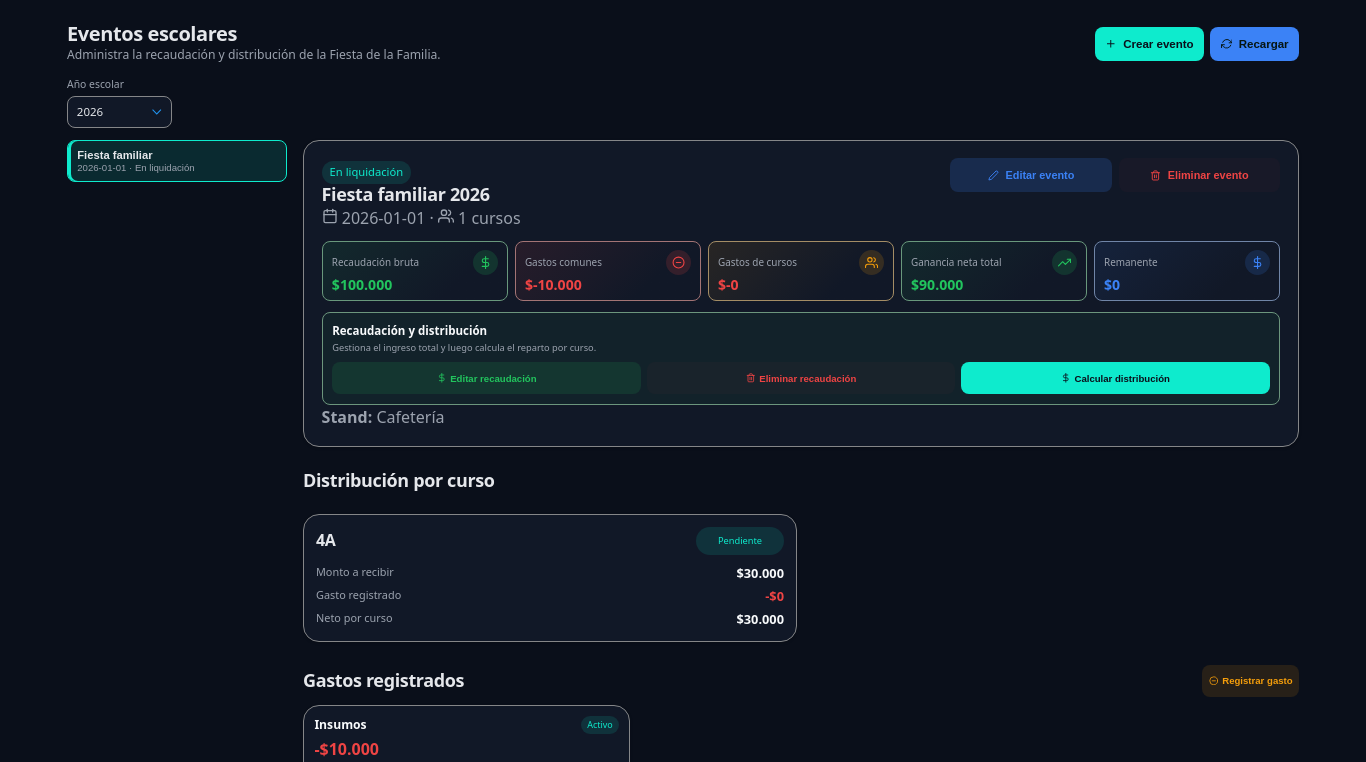
school events connected to HTTP › adds a donated course expense with its category and returns updated data
Click the button "Registrar gasto". click: (1251, 680)
box: [1202, 664, 1299, 696]
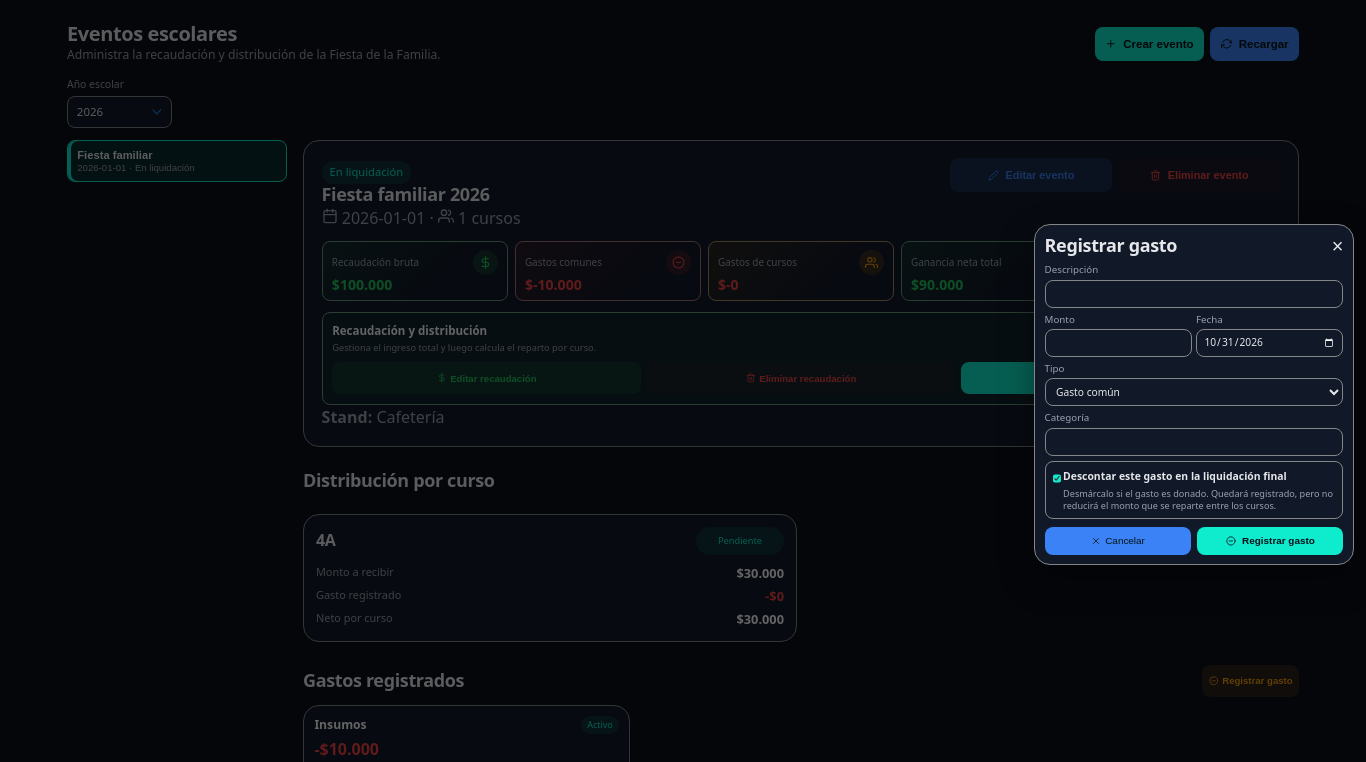
Type "Donación" into the field labelled "Descripción". click: (1194, 294)
box: [1045, 280, 1343, 308]
Type "5000" into the number field labelled "Monto". click: (1118, 343)
box: [1045, 329, 1192, 357]
Select "Gasto de curso" in the dropdown labelled "Tipo". click: (1194, 392)
box: [1045, 378, 1343, 406]
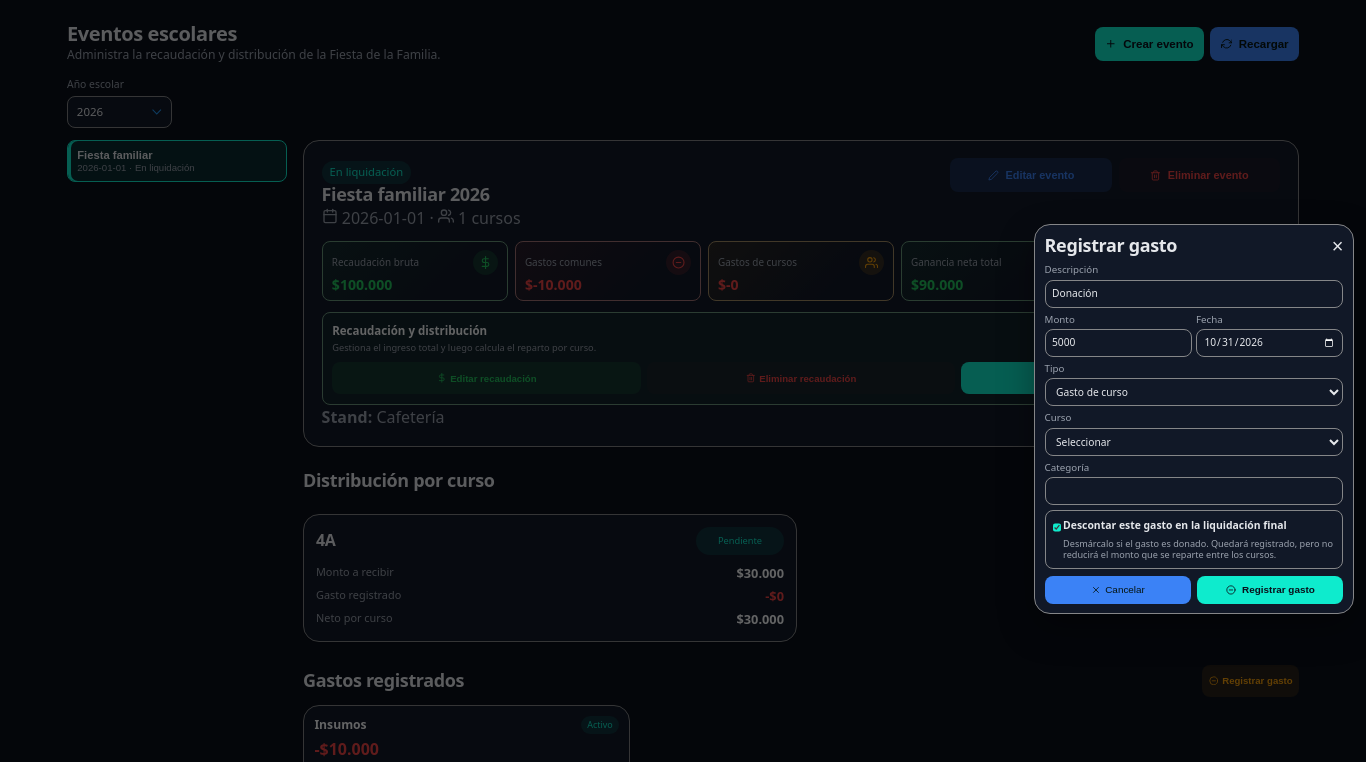
Select "4A" in the dropdown labelled "Curso". click: (1194, 442)
box: [1045, 428, 1343, 456]
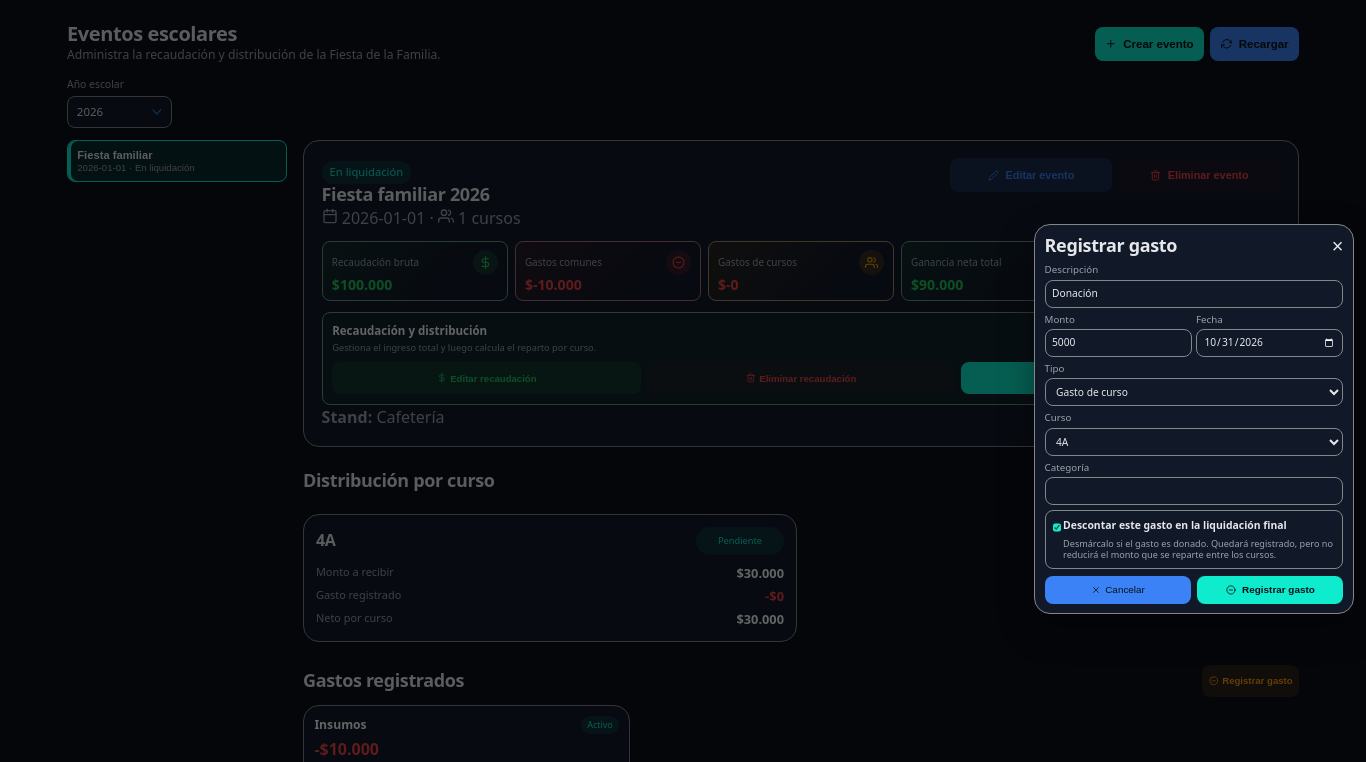
Type "Alimentos" into the field labelled "Categoría". click: (1194, 491)
box: [1045, 477, 1343, 505]
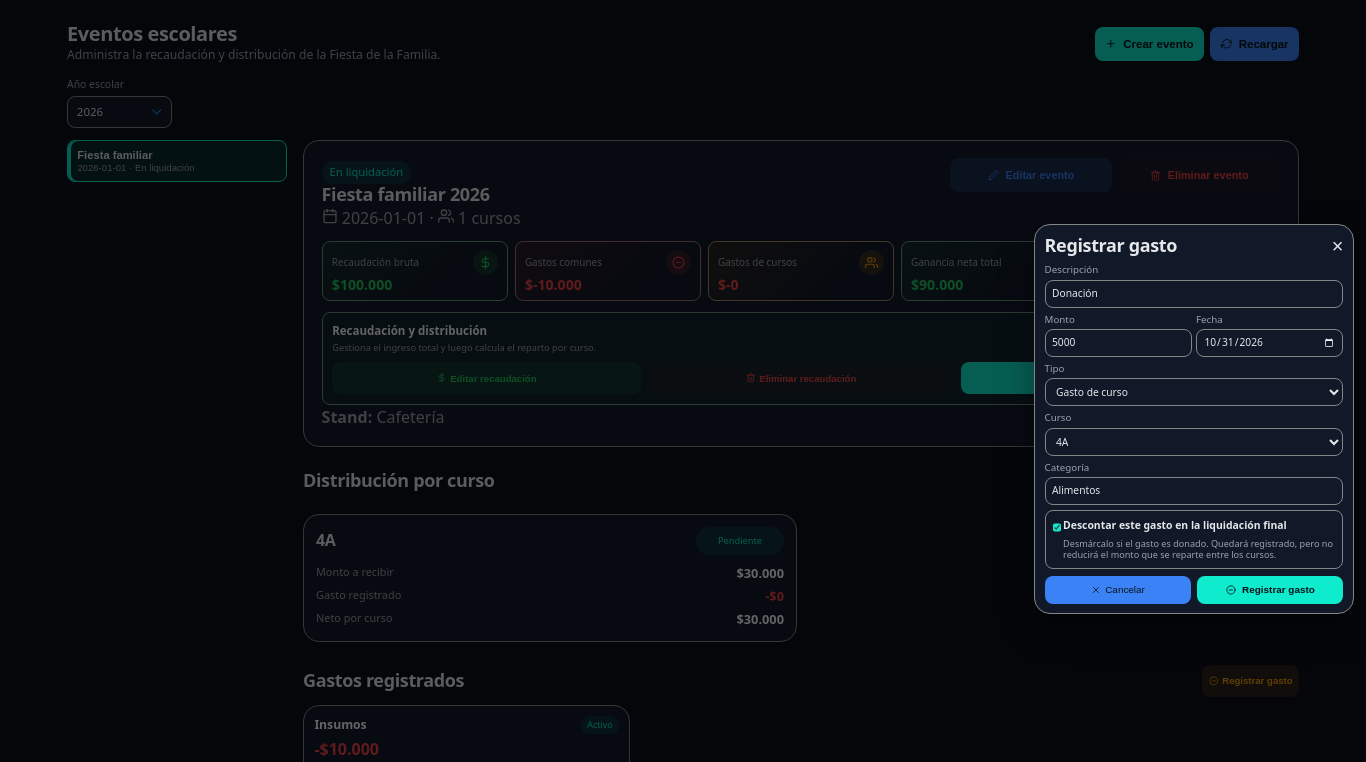
Click the checkbox. click: (1057, 528)
box: [1053, 520, 1061, 536]
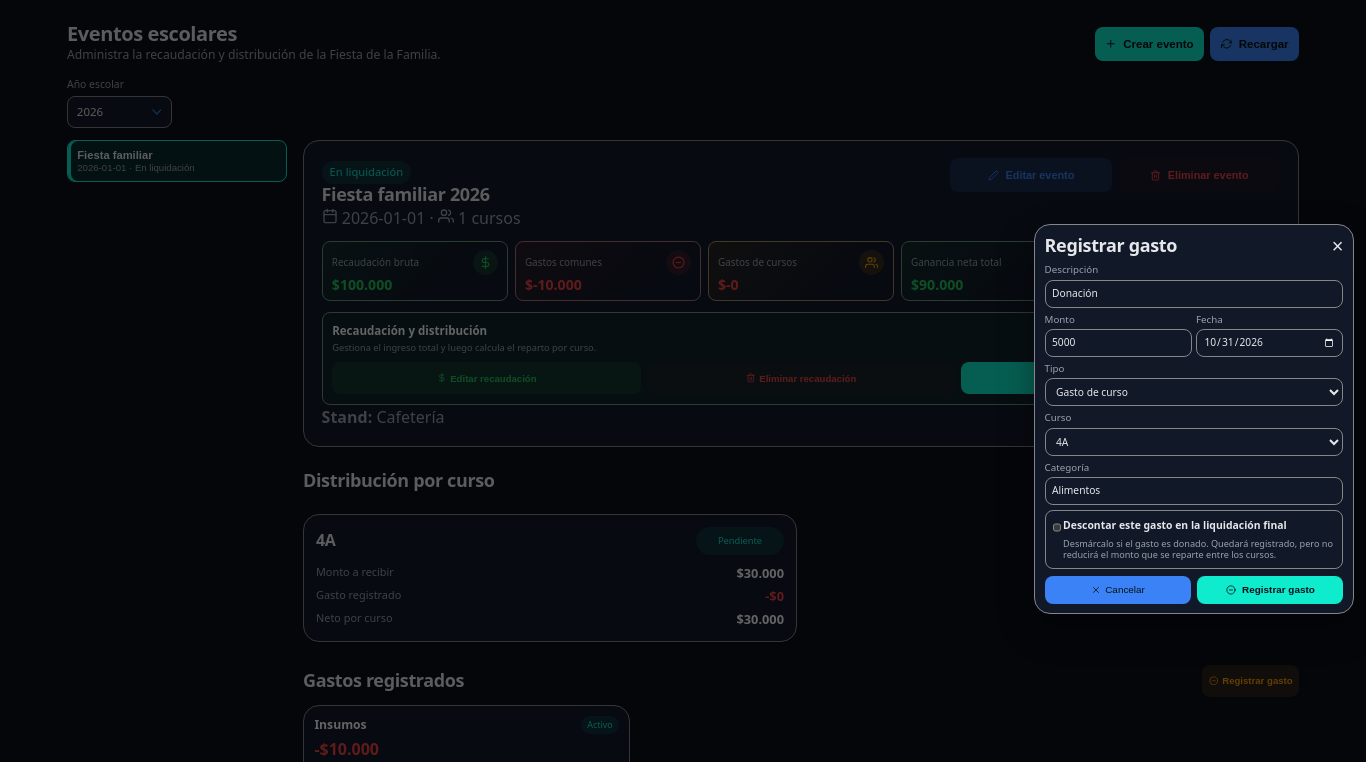
Click the button "Registrar gasto". click: (1270, 590)
box: [1197, 576, 1343, 604]
(page scrolled)
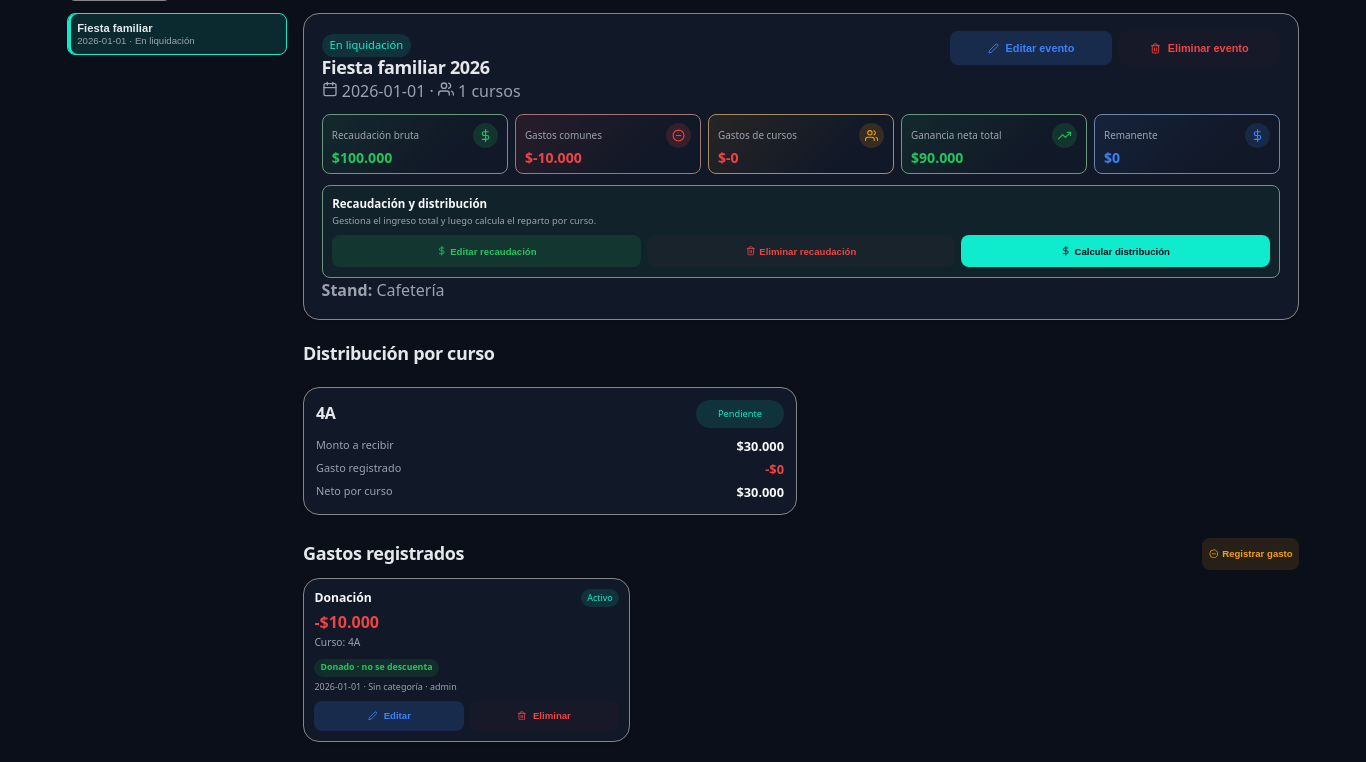
expect the text "Donación" is shown: met, box [314, 589, 372, 607]
expect the text "Donado · no se descuenta" is shown: met, box [314, 659, 439, 677]
